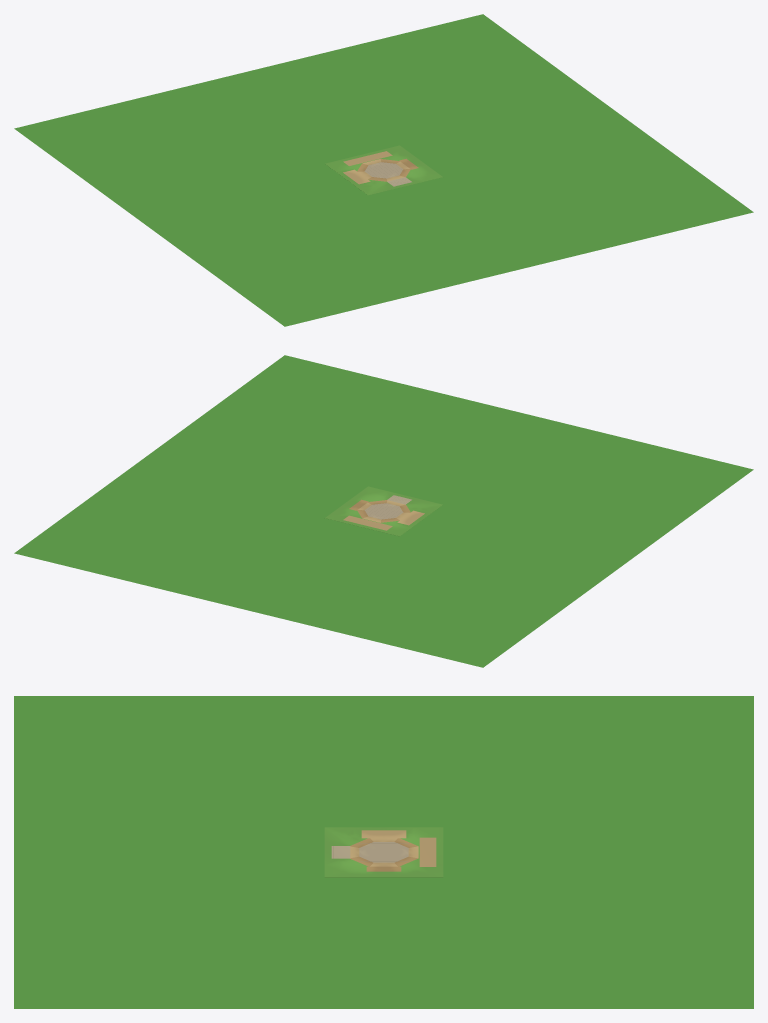
The model's file is garden_ground.glb.
3 renders of one model, top to bottom at view 1: azimuth 30°, elevation 25°; view 2: azimuth 150°, elevation 25°; view 3: azimuth 270°, elevation 25°, orthographic. The views are drawn at different scales.
Parts seen in each view (by area): view 1: garden_ground; view 2: garden_ground; view 3: garden_ground.
Boxes of the visible parts, x1,y1,x2,y2 form: garden_ground: [14, 14, 753, 326]; garden_ground: [14, 355, 753, 667]; garden_ground: [14, 696, 753, 1008].
Size of the model in its own units: 300 by 0.901 by 300.
